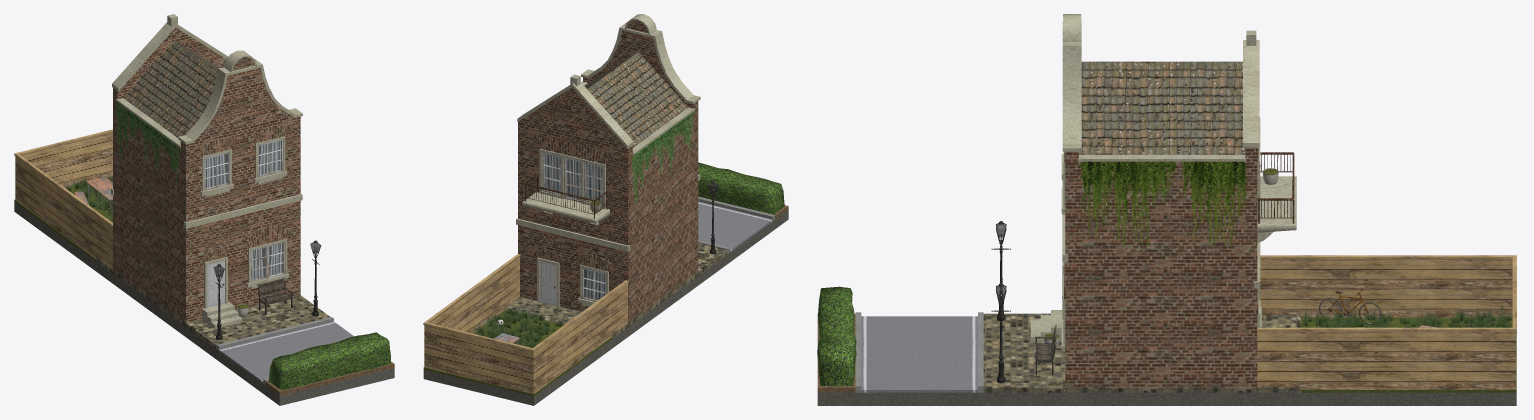
3 renders of one model, left to right at view 1: azimuth 30°, elevation 25°; view 2: azimuth 150°, elevation 25°; view 3: azimuth 270°, elevation 25°, orthographic. The views are drawn at different scales.
Visible parts, largest first — view 1: SM_House, SM_Fence, SM_Bush, SM_Ground, SM_Tiles, SM_Road, SM_Window3, SM_Door1, SM_Window2, SM_Vine1, SM_Window1, SM_Dirt (+5 smaller); view 2: SM_House, SM_Fence, SM_Balcony, SM_Ground, SM_Bush, SM_Road, SM_Tiles, SM_PlantsPlane, SM_Grass, SM_Vine1, SM_Window4, SM_Door2 (+1 smaller); view 3: SM_House, SM_Fence, SM_Ground, SM_Road, SM_Vine2, SM_Tiles, SM_Bush, SM_Balcony, SM_PlantsPlane, SM_Grass, SM_Door1.
Part boxes in pixels (x1,y1,x2,y2): SM_House: (111, 14, 302, 322); SM_Fence: (14, 129, 112, 268); SM_Bush: (269, 332, 390, 390); SM_Ground: (14, 202, 394, 405); SM_Tiles: (96, 258, 329, 349); SM_Road: (219, 321, 353, 383); SM_Window3: (245, 225, 289, 288); SM_Door1: (202, 248, 242, 328); SM_Window2: (253, 125, 287, 183); SM_Vine1: (115, 102, 182, 183); SM_Window1: (199, 138, 233, 197); SM_Dirt: (265, 361, 394, 395); SM_House: (516, 14, 700, 323); SM_Fence: (423, 254, 628, 393); SM_Balcony: (522, 137, 609, 225); SM_Ground: (423, 210, 788, 405); SM_Bush: (698, 162, 784, 214); SM_Road: (698, 201, 772, 252); SM_Tiles: (504, 243, 728, 338); SM_PlantsPlane: (473, 307, 563, 347); SM_Grass: (423, 310, 612, 396); SM_Vine1: (631, 111, 695, 204); SM_Window4: (578, 254, 611, 306); SM_Door2: (536, 249, 561, 307); SM_House: (1062, 14, 1260, 387); SM_Fence: (1257, 255, 1516, 389); SM_Ground: (817, 392, 1516, 405); SM_Road: (861, 316, 977, 392); SM_Vine2: (1079, 161, 1247, 246); SM_Tiles: (983, 313, 1300, 392); SM_Bush: (817, 286, 856, 386); SM_Balcony: (1257, 118, 1296, 242); SM_PlantsPlane: (1300, 305, 1516, 334); SM_Grass: (1301, 317, 1516, 392); SM_Door1: (1030, 262, 1064, 341).
Bounding box in the file's own units: 6.18 × 13.38 × 24.12.
25 materials, 25 textured.
